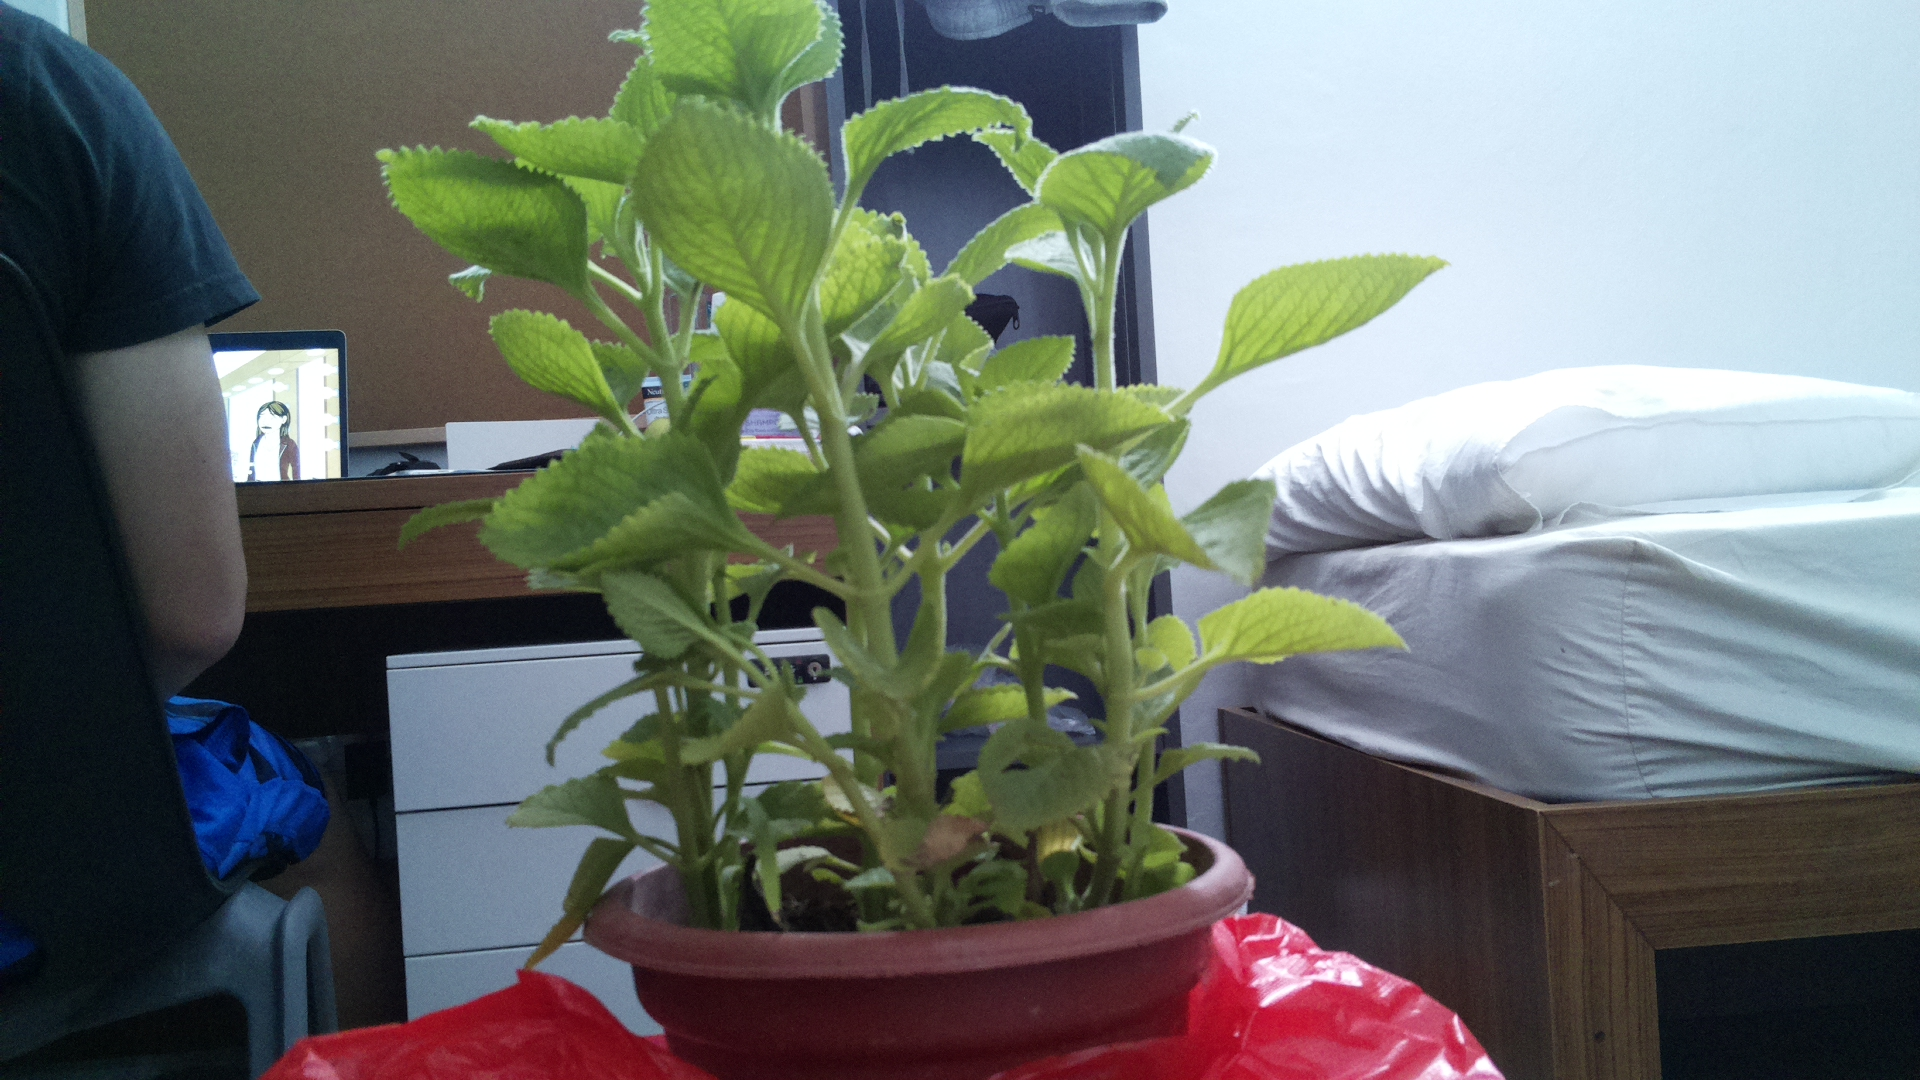leaf: (640, 98, 828, 334), (1185, 239, 1472, 393), (361, 131, 609, 309), (484, 421, 733, 593), (1040, 102, 1222, 253), (957, 382, 1168, 506), (825, 65, 1031, 187), (472, 302, 651, 426), (509, 825, 647, 975), (1195, 585, 1407, 679), (488, 105, 655, 196), (818, 589, 944, 699), (500, 766, 637, 837)
